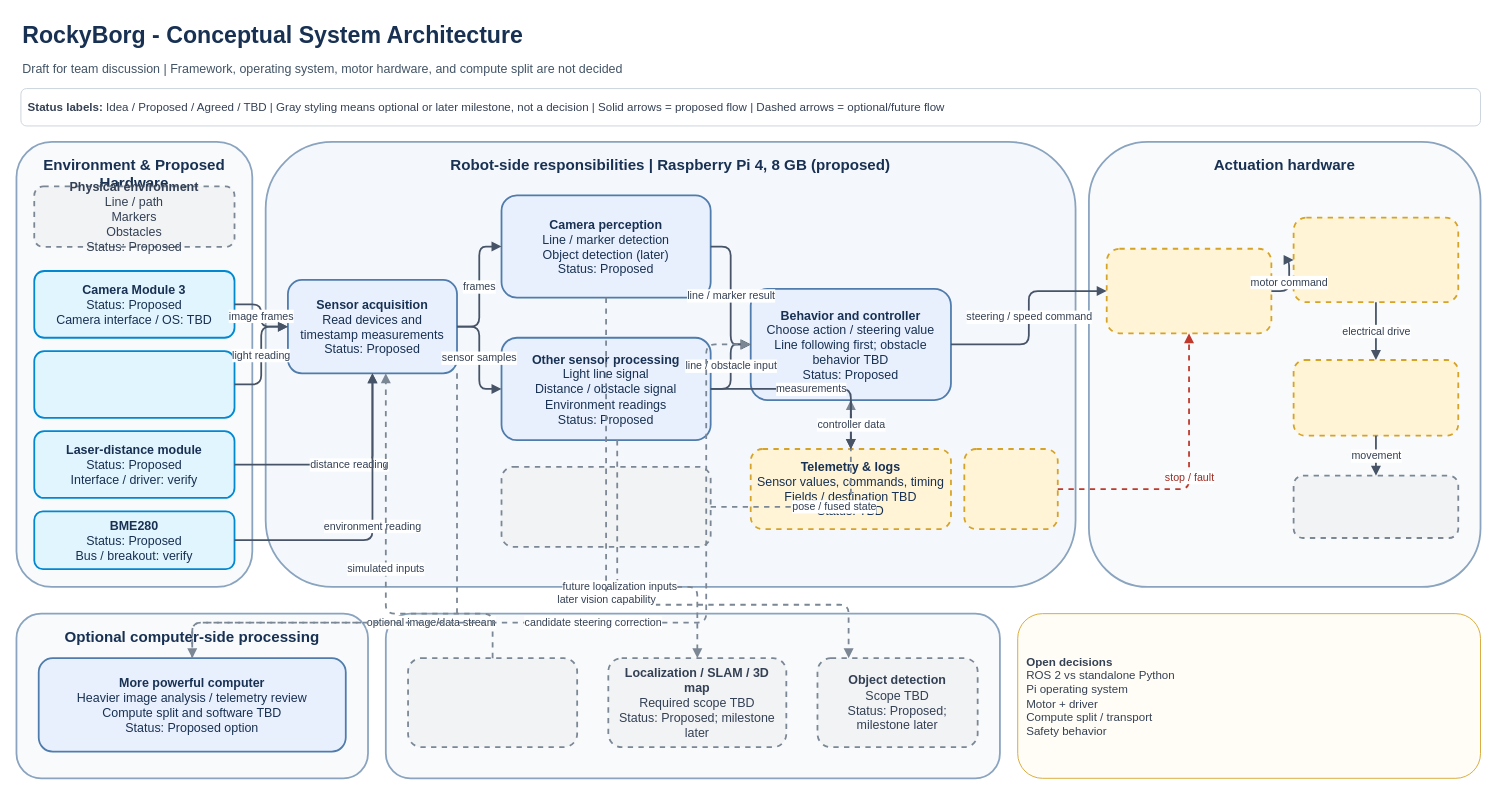
This 1496x794 diagram has some shape labels left out. Each missing label, with the box of its shape:
Digital light sensor Status: Proposed Exact board / output: verify: (33, 350, 235, 418)
Future / optional capabilities: (384, 612, 1000, 779)
Motor command interface Command format / feedback TBD Status: TBD: (1105, 247, 1272, 334)
Motor driver Hardware and control interface TBD Status: TBD: (1292, 216, 1459, 303)
Motor(s) Type / availability TBD Status: TBD: (1292, 359, 1459, 436)
Robot motion Conceptual system output Status: Proposed: (1292, 474, 1459, 538)
Safety / fault handling Stop behavior and watchdog TBD Status: TBD: (963, 448, 1058, 530)
Simulation (e.g. Gazebo) Requirement / tool TBD Status: Proposed: (407, 657, 578, 748)
State estimate / sensor fusion Method TBD Status: Proposed; milestone later: (500, 465, 711, 547)
